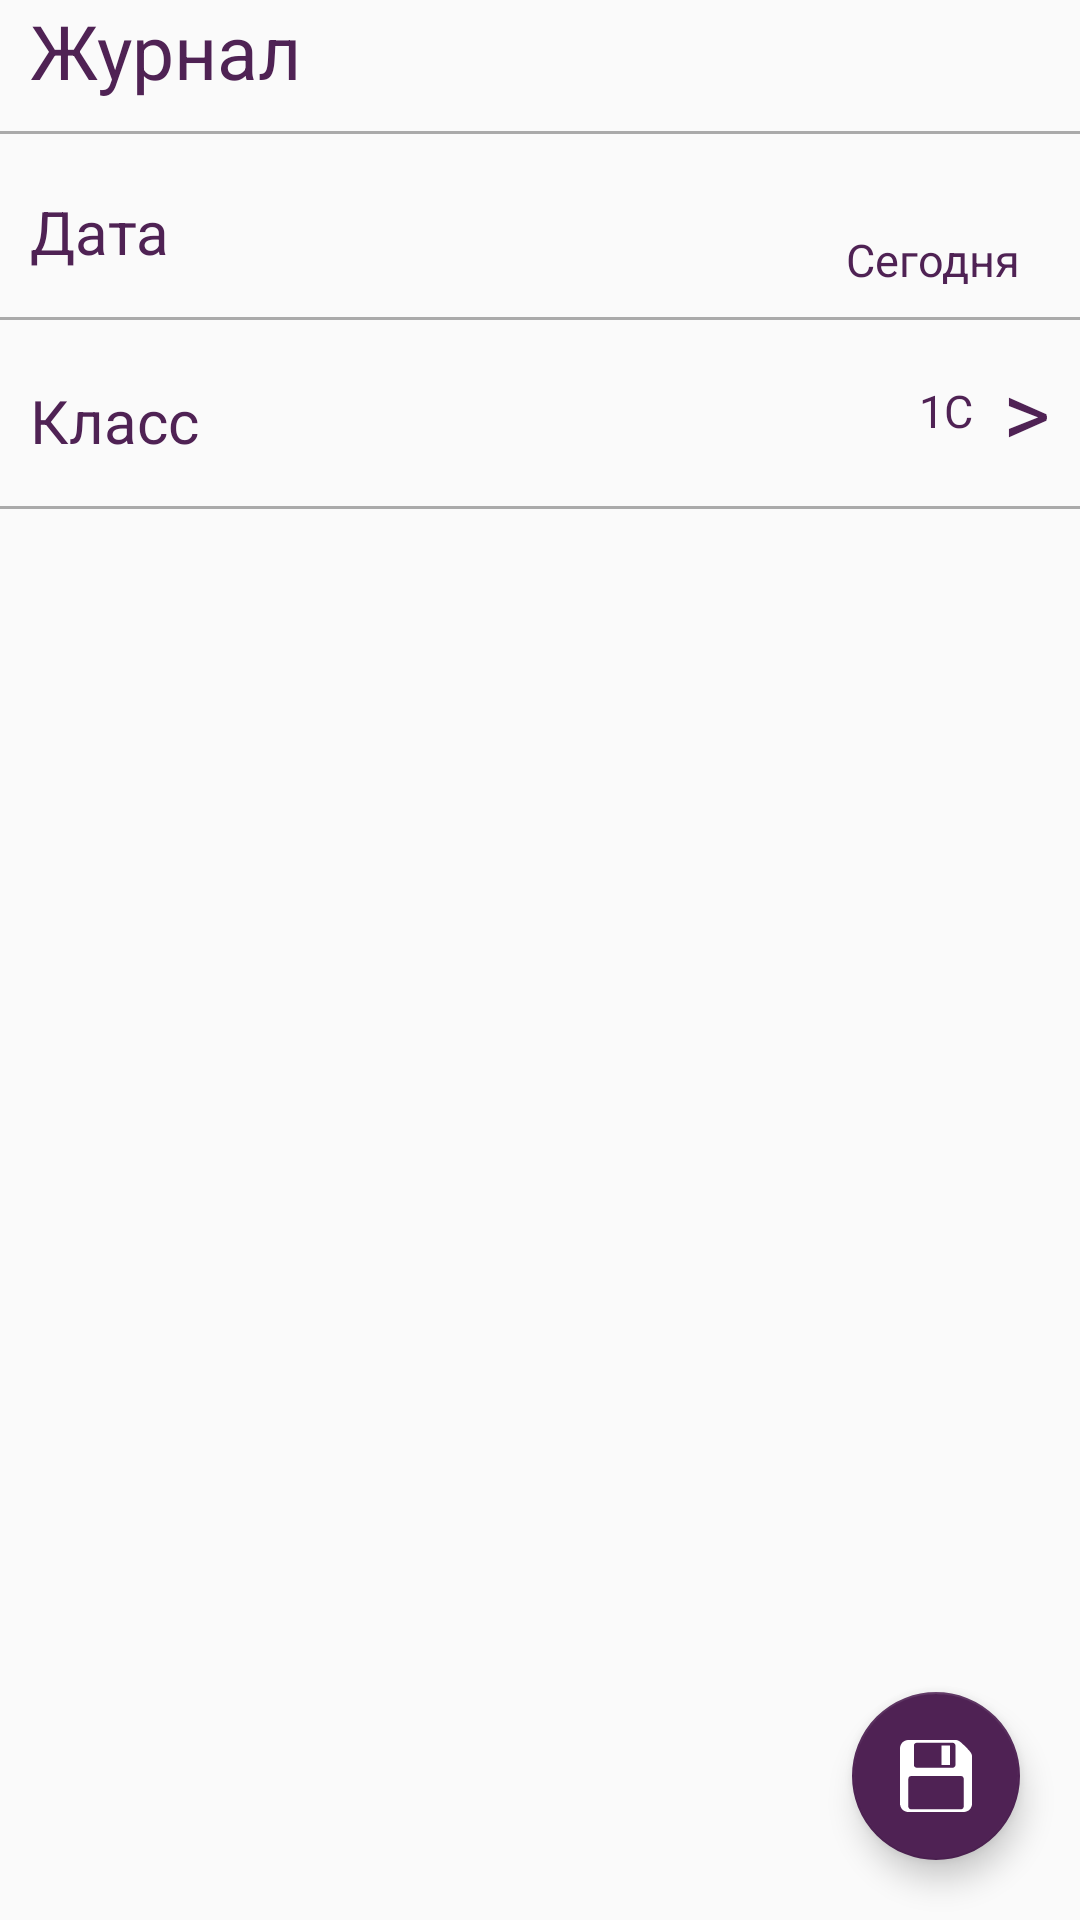

Named icons in this screenshot (1080 x 1920) and their centers, point (x, y):
save: point (936, 1776)
